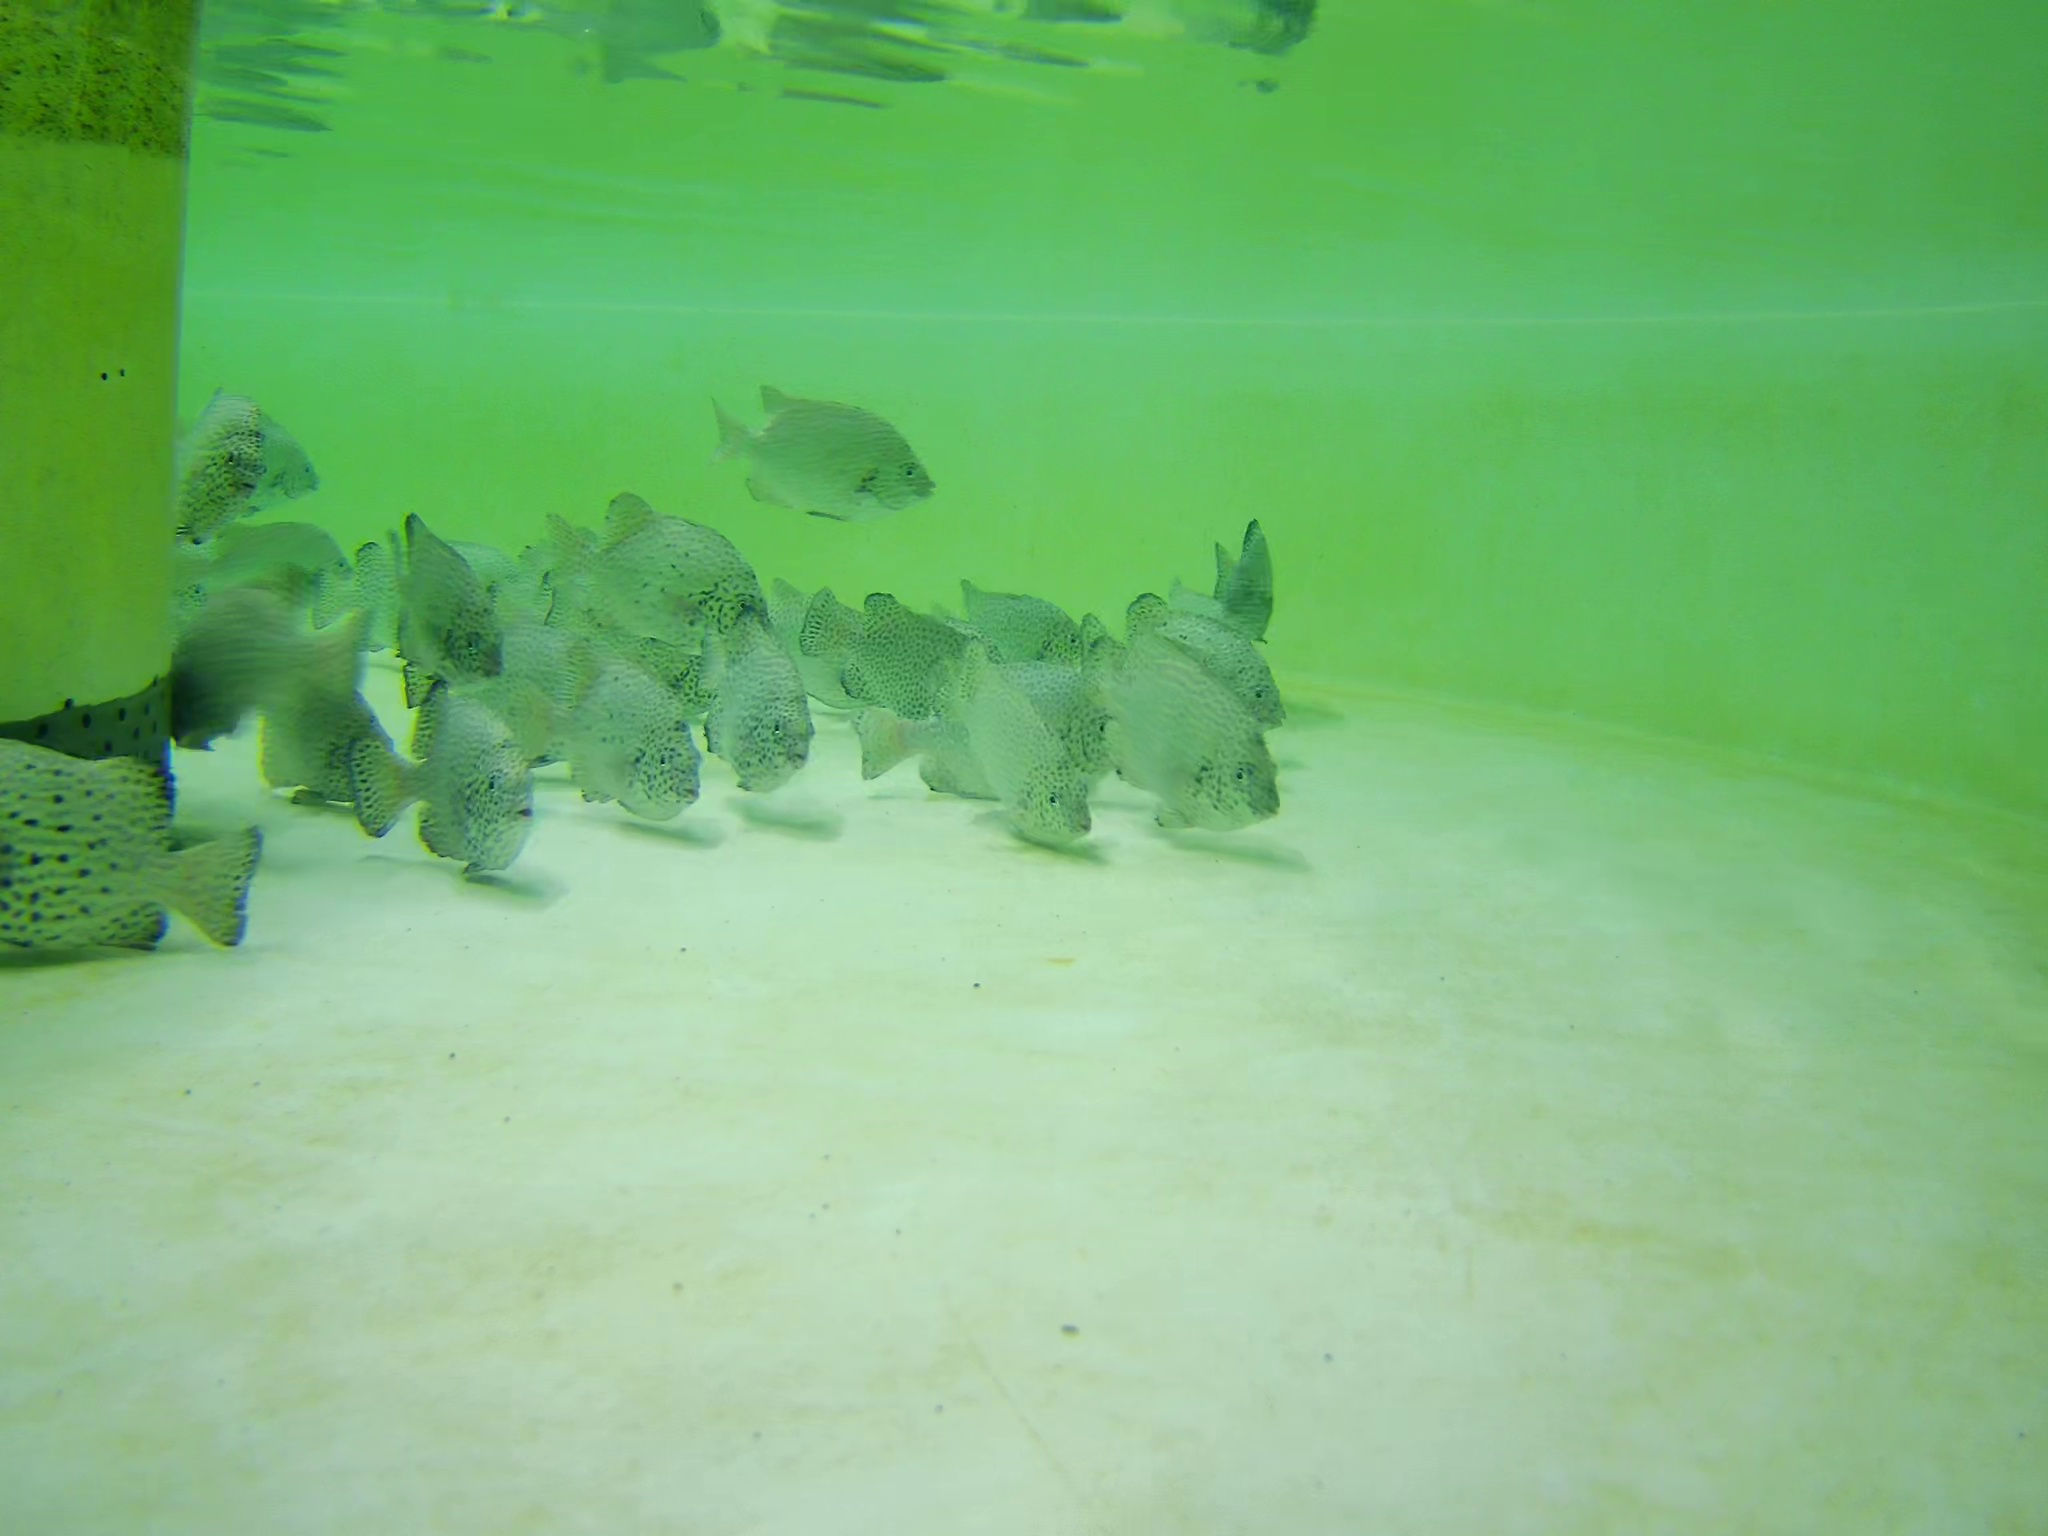fish: (2, 741, 269, 957), (1090, 620, 1284, 844), (168, 568, 371, 757), (355, 668, 527, 874), (543, 505, 774, 652), (860, 670, 1098, 810), (534, 636, 693, 829), (716, 392, 934, 528), (966, 637, 1097, 844), (1121, 591, 1293, 745), (801, 586, 976, 726), (389, 510, 511, 697), (705, 613, 816, 805), (926, 574, 1089, 692), (189, 390, 321, 511), (310, 534, 442, 653), (261, 670, 381, 799), (1208, 510, 1282, 655), (173, 434, 252, 529)
